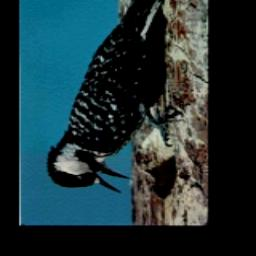Woodpecker: (40, 0, 185, 198)
